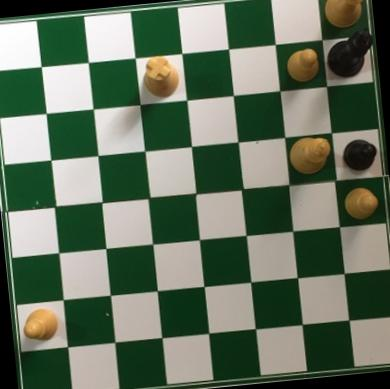black-king: (323, 25, 377, 81)
black-pawn: (339, 135, 379, 174)
white-king: (285, 133, 334, 177)
white-pawn: (19, 305, 61, 345), (282, 44, 322, 86), (341, 184, 381, 224)
white-queen: (319, 0, 373, 34)
white-rook: (141, 52, 181, 99)
